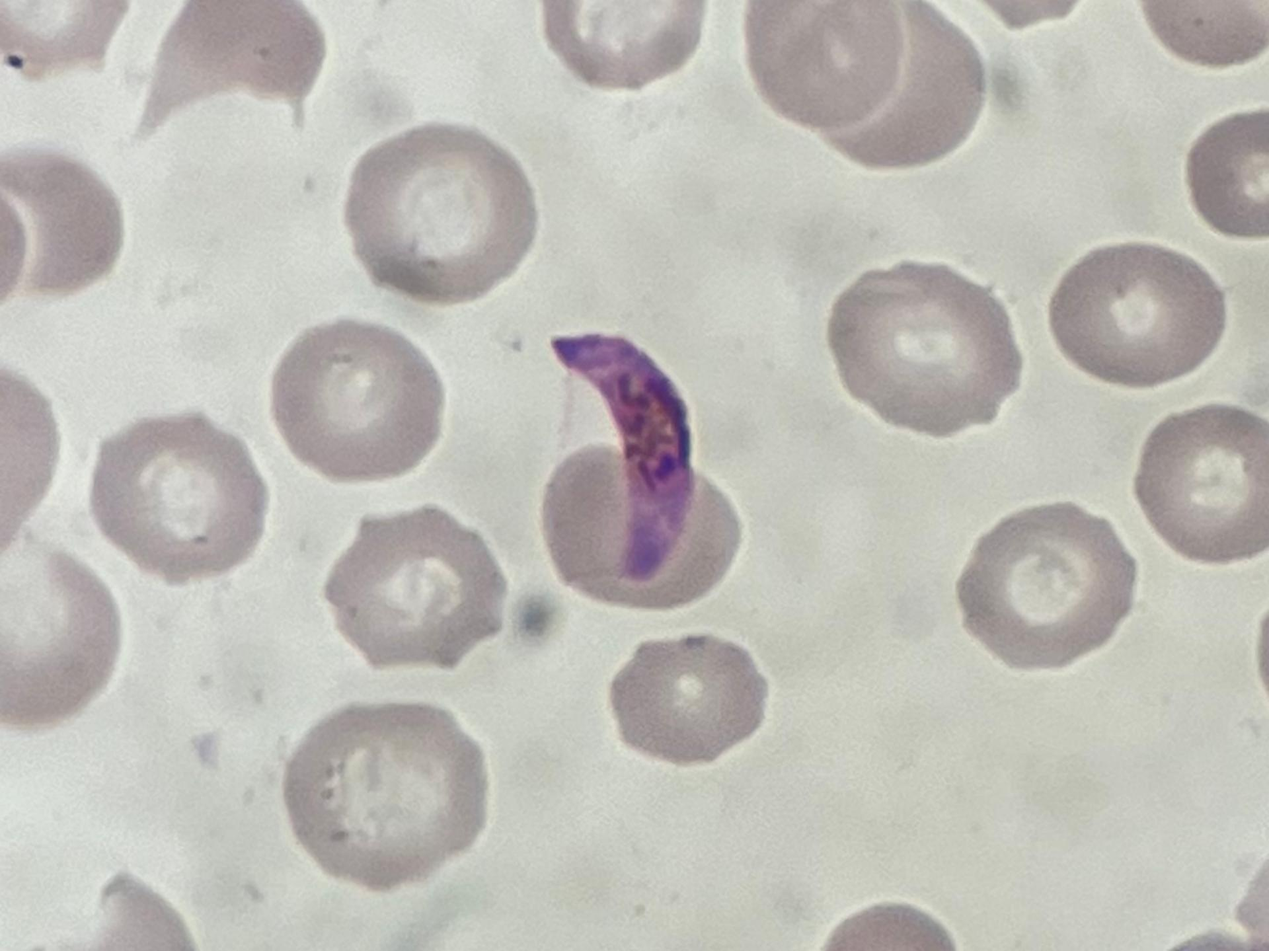Infected: (544, 331, 695, 588)
Uninfected: (279, 703, 489, 894), (829, 258, 1026, 442), (342, 126, 537, 308), (540, 445, 747, 613), (93, 412, 272, 584), (958, 503, 1132, 669), (271, 319, 444, 483), (330, 513, 506, 674), (820, 0, 987, 169), (135, 0, 325, 142), (1048, 243, 1225, 387), (1130, 405, 1269, 567), (0, 542, 118, 727), (608, 631, 772, 763), (740, 0, 908, 128), (0, 146, 123, 296), (540, 0, 711, 91), (1183, 108, 1269, 242)
